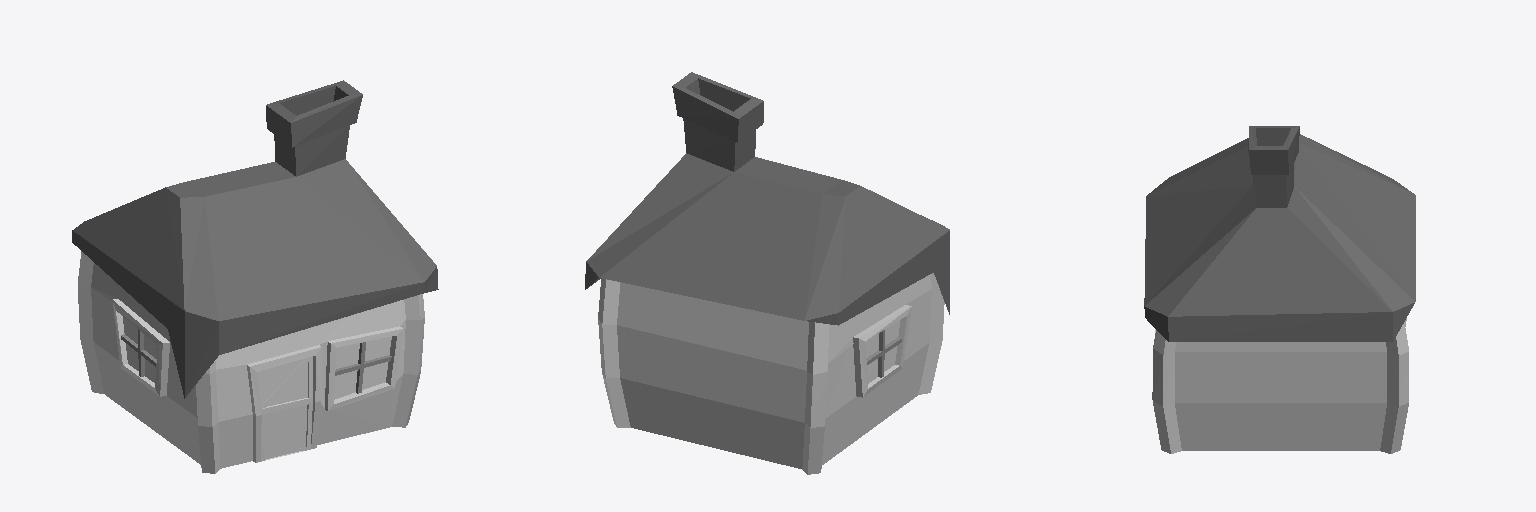
Rendered from House.obj.
3 views of the same model, side by side, from view 1: azimuth 30°, elevation 25°; view 2: azimuth 150°, elevation 25°; view 3: azimuth 270°, elevation 25° (orthographic).
Visible parts, largest first — view 1: House_Roof, House_MainBody, House_Windows___Doors; view 2: House_Roof, House_MainBody, House_Windows___Doors; view 3: House_Roof, House_MainBody.
Part boxes in pixels (left/top/right/bottom): House_Roof: left=72, top=80, right=438, bottom=398; House_MainBody: left=78, top=251, right=424, bottom=473; House_Windows___Doors: left=121, top=317, right=391, bottom=461; House_Roof: left=585, top=72, right=949, bottom=325; House_MainBody: left=598, top=273, right=944, bottom=474; House_Windows___Doors: left=866, top=320, right=901, bottom=383; House_Roof: left=1144, top=126, right=1415, bottom=341; House_MainBody: left=1152, top=318, right=1408, bottom=453.
Bounding box in the file's own units: 131 × 149 × 122.